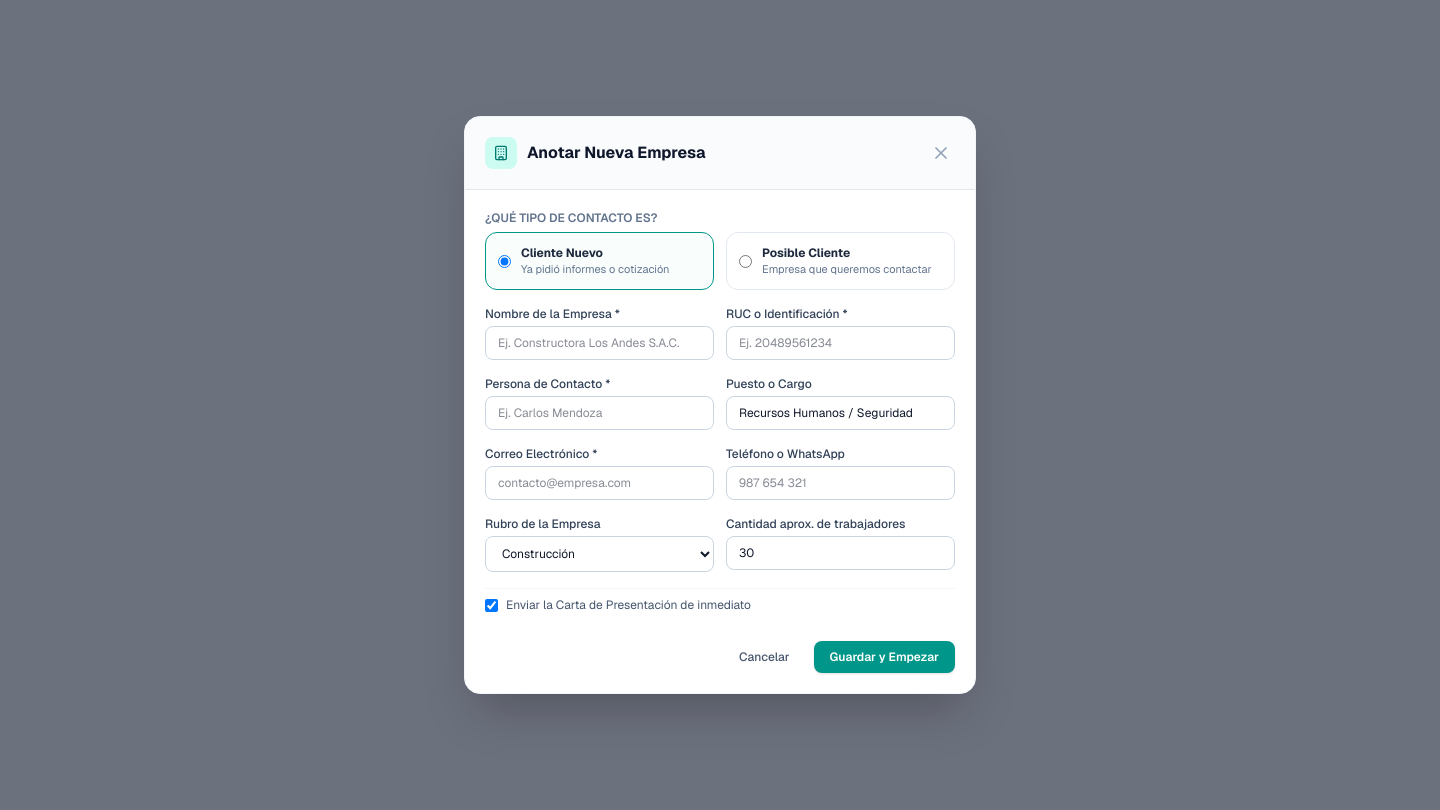
ModalAltaEmpresa › keeps the form open with the API error when the persist fails
Step 1. Type "Constructora Los Andes" into the field labelled "Nombre de la Empresa *" → (600, 343), box 485,326 -> 714,360
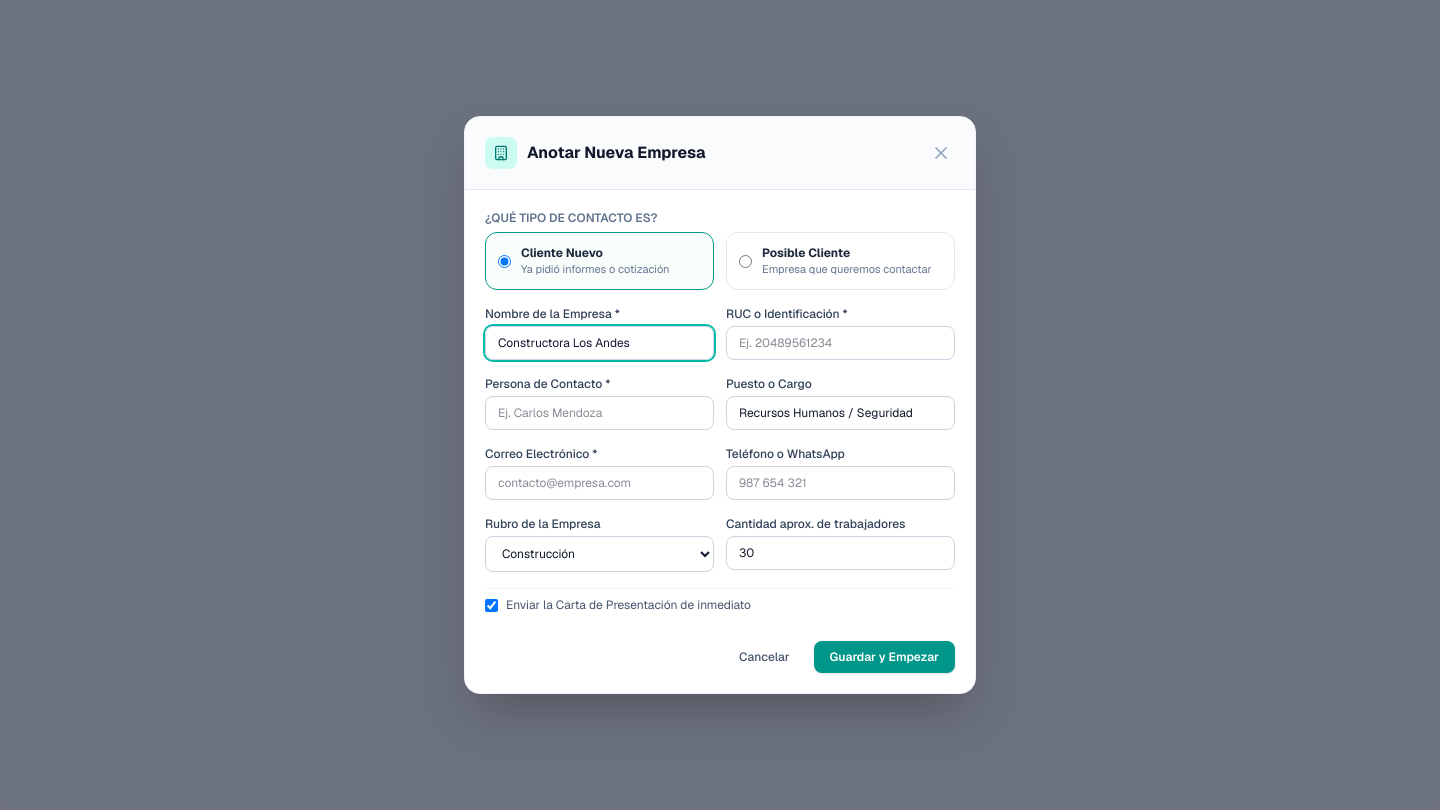
Step 2. Type "20489561234" into the field labelled "RUC o Identificación *" → (840, 343), box 726,326 -> 955,360
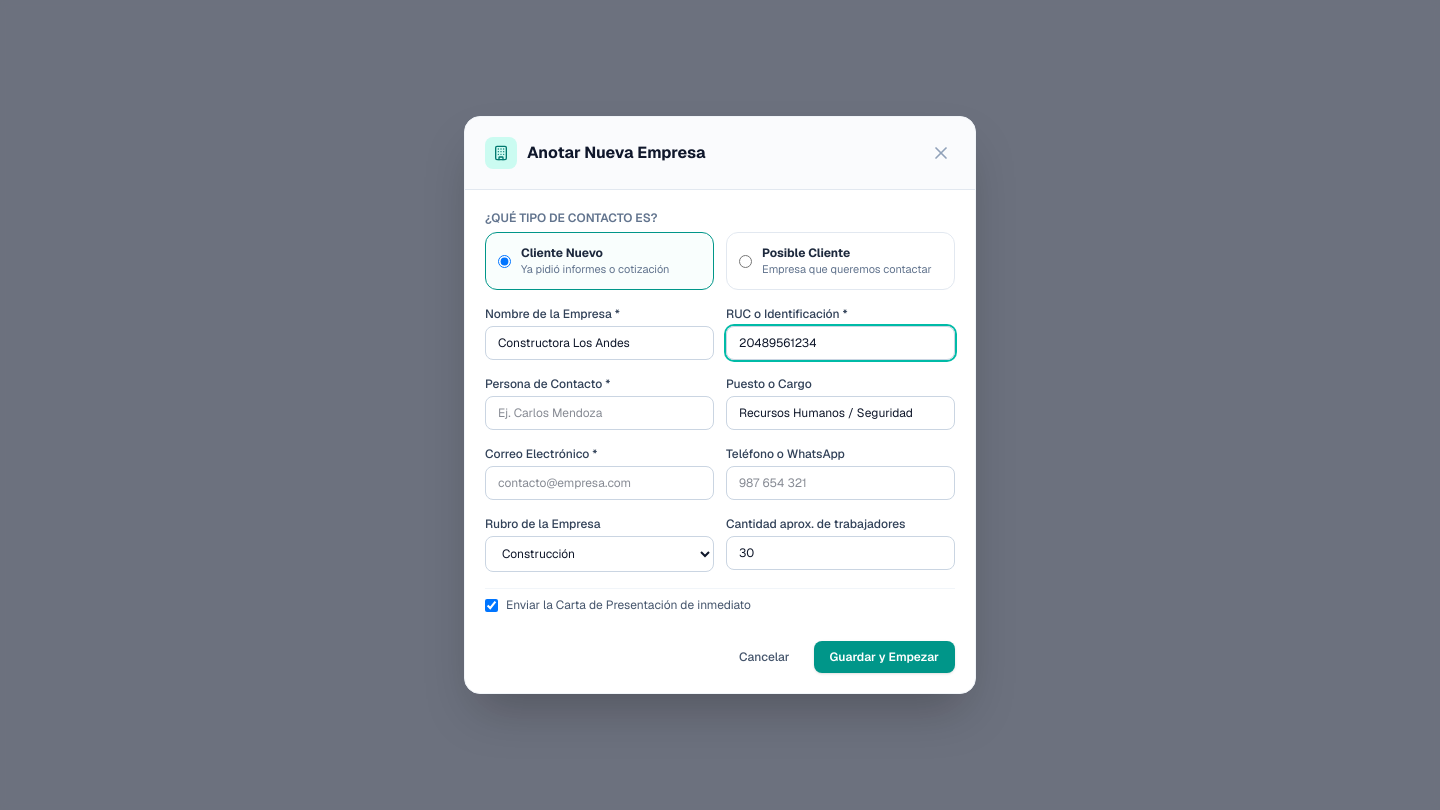
Step 3. Type "Carlos Mendoza" into the field labelled "Persona de Contacto *" → (600, 413), box 485,396 -> 714,430
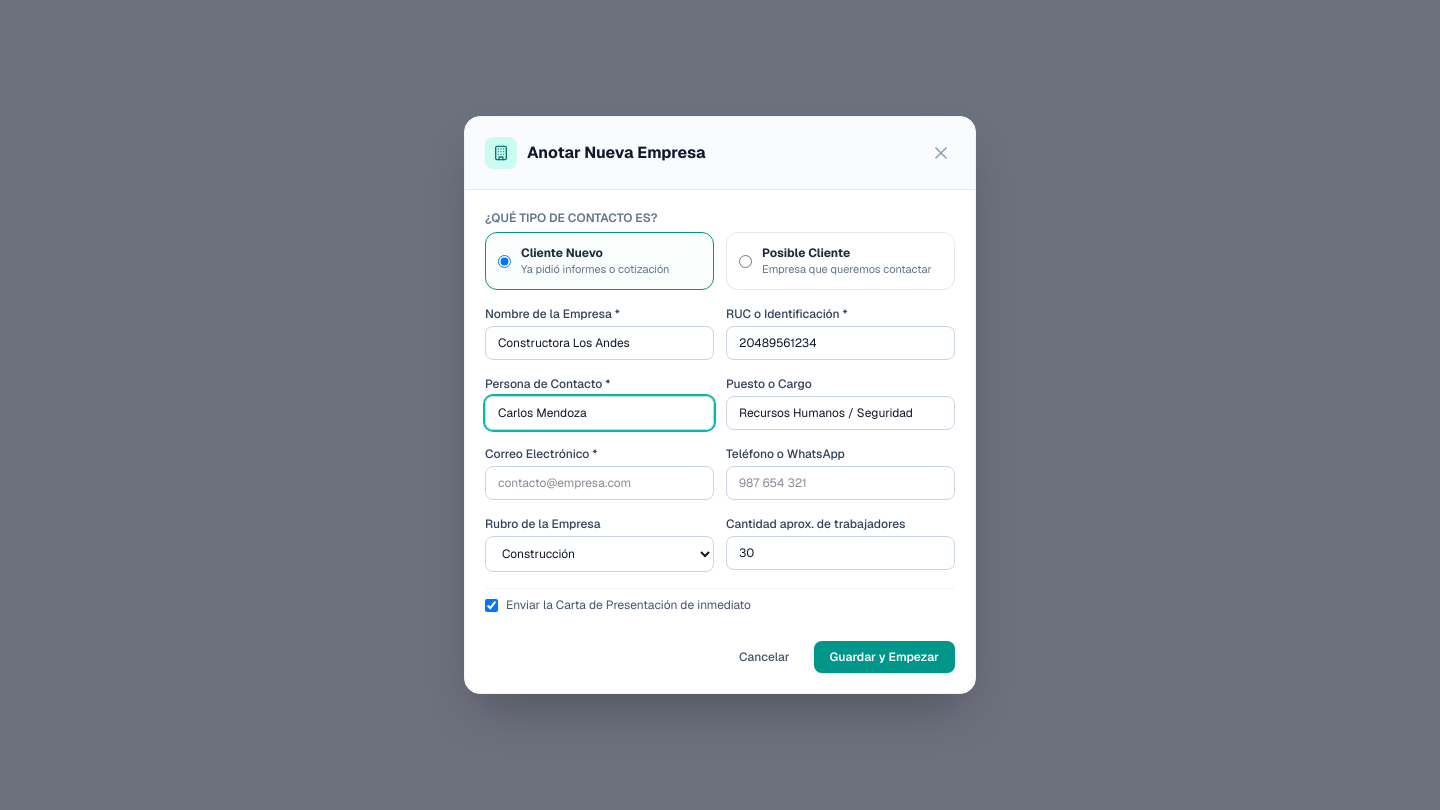
Step 4. Type "carlos@andes.com" into the field labelled "Correo Electrónico *" → (600, 483), box 485,466 -> 714,500
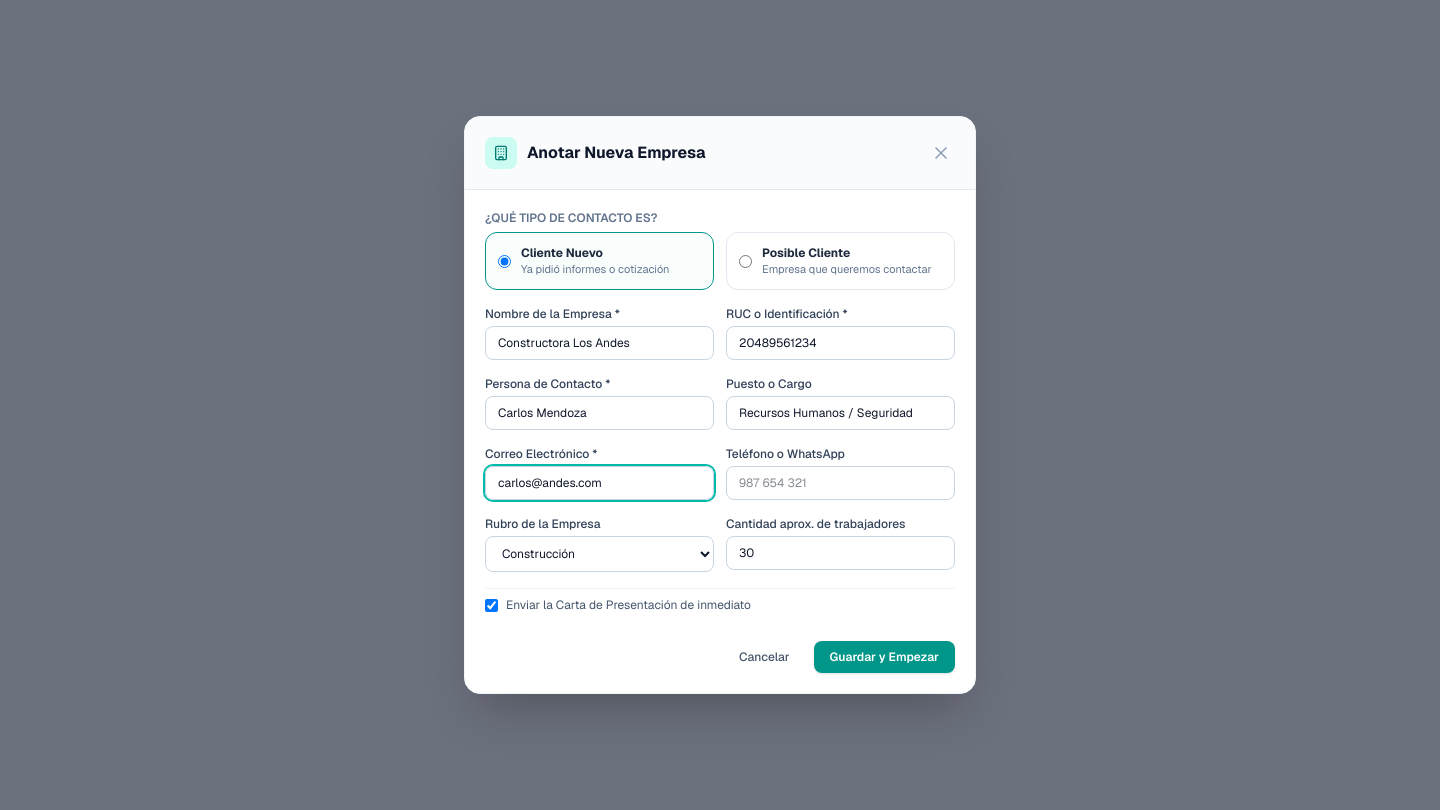
Step 5. Click the button "Guardar y Empezar" → (884, 657), box 814,641 -> 955,673
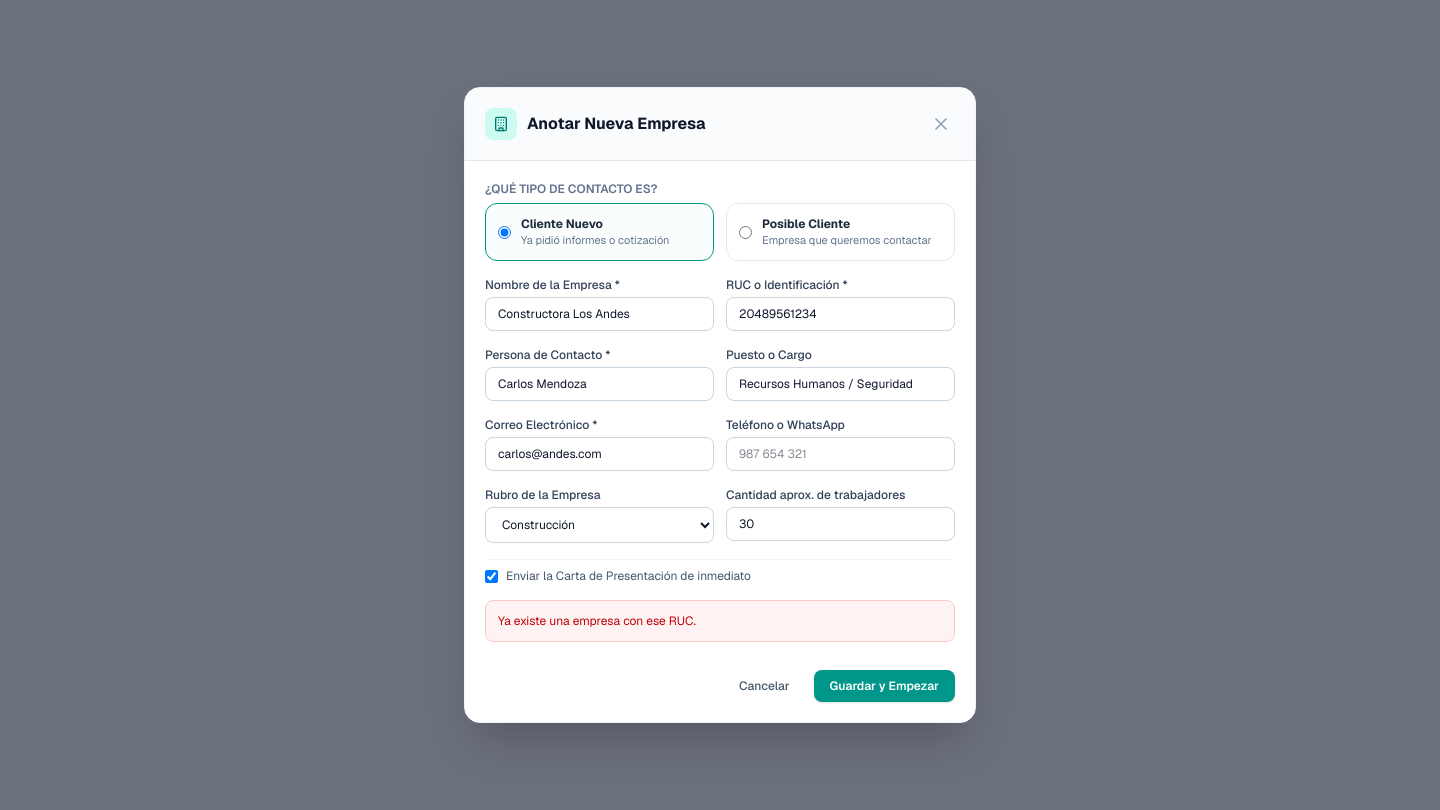
Check: the dialog "Anotar Nueva Empresa" is shown, box 464,87 -> 976,723
Check: the message reads "Ya existe una empresa con ese RUC.", box 498,613 -> 696,629
